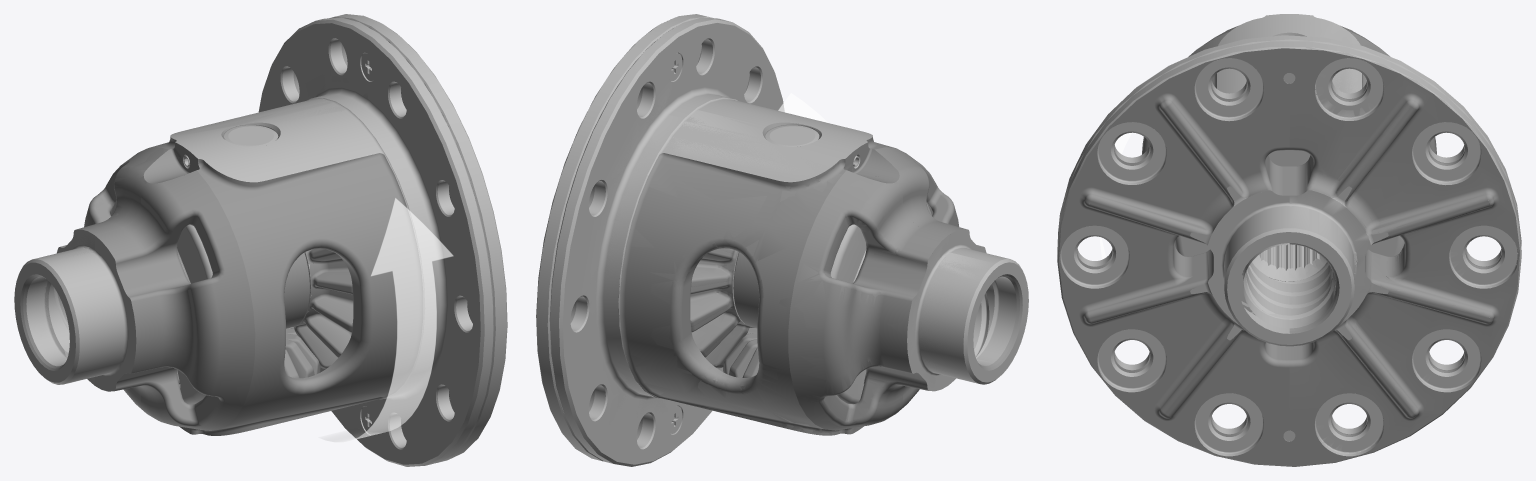
The model's file is ASLSD MAZDA(Animated)3.glb.
3 renders of one model, left to right at view 1: azimuth 30°, elevation 25°; view 2: azimuth 150°, elevation 25°; view 3: azimuth 270°, elevation 25°, orthographic.
Visible parts, largest first — view 1: Kuciste 1, 10514422_CASE-B.1, Strelica, Kuciste 2, 10514426_GEAR-SIDE,LH.1, 10308501_RING-TAPER.2, 10516850_BLOCK-THRUST.1, 10516850_BLOCK-THRUST.002, 10514425_GEAR-PINION.1, 10514425_GEAR-PINION.004, 10310355_SHAFT-PINION.1, 10514421_CASE-A.1 (+1 smaller); view 2: Kuciste 1, 10514422_CASE-B.1, Kuciste 2, 10514427_GEAR-SIDE,RH.002, 10514421_CASE-A.1, 10308501_RING-TAPER.1, 10514426_GEAR-SIDE,LH.1, 10516850_BLOCK-THRUST.002, 10516850_BLOCK-THRUST.1, 10310355_SHAFT-PINION.002, 10514425_GEAR-PINION.1, 10514425_GEAR-PINION.004 (+2 smaller); view 3: Kuciste 2, 10514421_CASE-A.1, Kuciste 1, 10514422_CASE-B.1, 10308501_RING-TAPER.003, 10514423_CAM-RING,LH.1, 10514423_CAM-RING,LH.002.
Boxes of the visible parts, x1=… form: Kuciste 1: x1=14, y1=17, x2=493, y2=466; 10514422_CASE-B.1: x1=14, y1=19, x2=378, y2=448; Strelica: x1=328, y1=198, x2=453, y2=441; Kuciste 2: x1=349, y1=19, x2=507, y2=463; 10514426_GEAR-SIDE,LH.1: x1=293, y1=248, x2=353, y2=368; 10308501_RING-TAPER.2: x1=177, y1=224, x2=212, y2=404; 10516850_BLOCK-THRUST.1: x1=284, y1=263, x2=309, y2=328; 10516850_BLOCK-THRUST.002: x1=284, y1=252, x2=309, y2=327; 10514425_GEAR-PINION.1: x1=284, y1=327, x2=320, y2=378; 10514425_GEAR-PINION.004: x1=285, y1=328, x2=314, y2=378; 10310355_SHAFT-PINION.1: x1=224, y1=125, x2=277, y2=146; 10514421_CASE-A.1: x1=293, y1=14, x2=392, y2=93; Kuciste 1: x1=549, y1=17, x2=1028, y2=466; 10514422_CASE-B.1: x1=549, y1=36, x2=998, y2=466; Kuciste 2: x1=536, y1=14, x2=749, y2=461; 10514427_GEAR-SIDE,RH.002: x1=690, y1=248, x2=754, y2=367; 10514421_CASE-A.1: x1=536, y1=31, x2=661, y2=460; 10308501_RING-TAPER.1: x1=830, y1=224, x2=866, y2=404; 10514426_GEAR-SIDE,LH.1: x1=690, y1=249, x2=749, y2=368; 10516850_BLOCK-THRUST.002: x1=733, y1=252, x2=759, y2=326; 10516850_BLOCK-THRUST.1: x1=733, y1=253, x2=758, y2=328; 10310355_SHAFT-PINION.002: x1=765, y1=125, x2=818, y2=146; 10514425_GEAR-PINION.1: x1=723, y1=333, x2=759, y2=377; 10514425_GEAR-PINION.004: x1=729, y1=328, x2=757, y2=377; Kuciste 2: x1=1057, y1=41, x2=1521, y2=466; 10514421_CASE-A.1: x1=1289, y1=41, x2=1521, y2=466; Kuciste 1: x1=1057, y1=14, x2=1521, y2=436; 10514422_CASE-B.1: x1=1283, y1=14, x2=1521, y2=441; 10308501_RING-TAPER.003: x1=1174, y1=150, x2=1400, y2=315; 10514423_CAM-RING,LH.1: x1=1252, y1=244, x2=1326, y2=281; 10514423_CAM-RING,LH.002: x1=1242, y1=244, x2=1325, y2=312.
Bounding box in the file's own units: 0.166 × 0.16 × 0.16.
8 materials, 1 textured.
